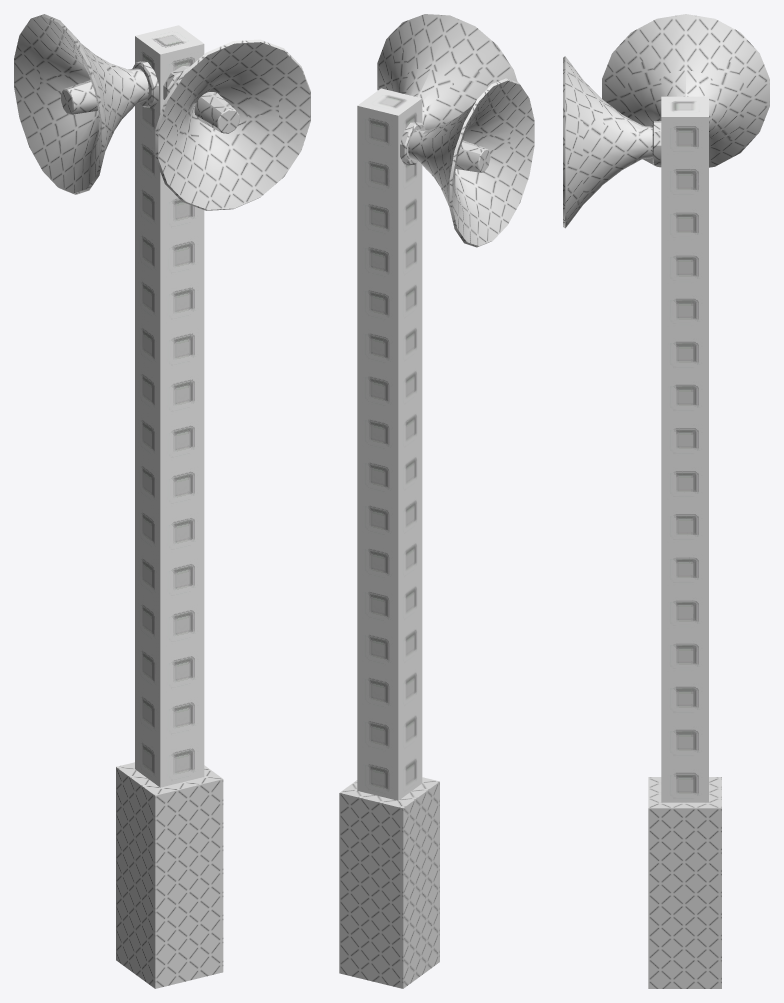
Rendered from laba.fbx.
The picture shows the model from 3 angles, left to right: view 1: azimuth 30°, elevation 25°; view 2: azimuth 150°, elevation 25°; view 3: azimuth 270°, elevation 25°; orthographic projection. The views are drawn at different scales.
Visible parts, largest first — view 1: laba; view 2: laba; view 3: laba.
Boxes of the visible parts, left/top/right/bottom form: laba: left=14, top=14, right=310, bottom=988; laba: left=339, top=14, right=534, bottom=988; laba: left=563, top=14, right=769, bottom=988.
Size of the model in its own units: 151 by 745 by 154.
